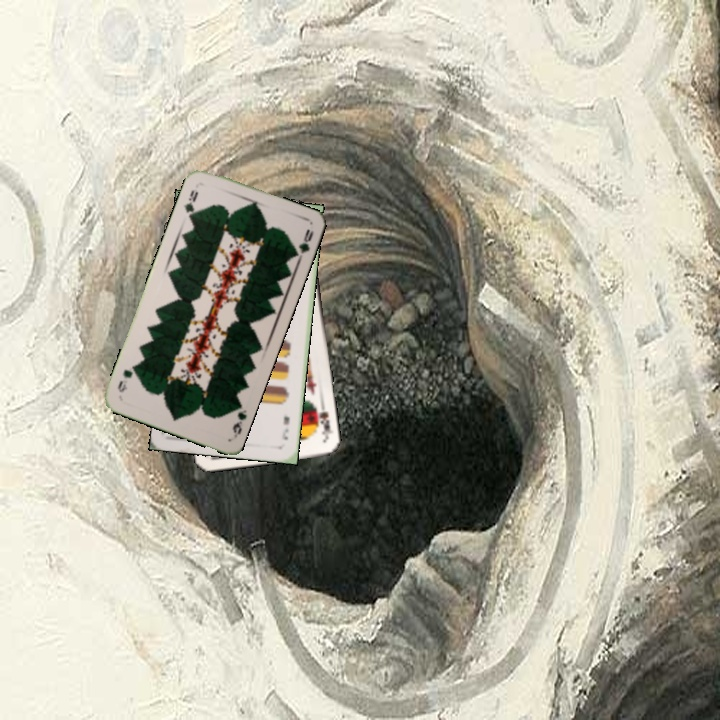E7: (278, 412, 292, 442)
G9: (228, 399, 249, 440), (179, 186, 201, 222)
SK: (312, 400, 335, 441)
